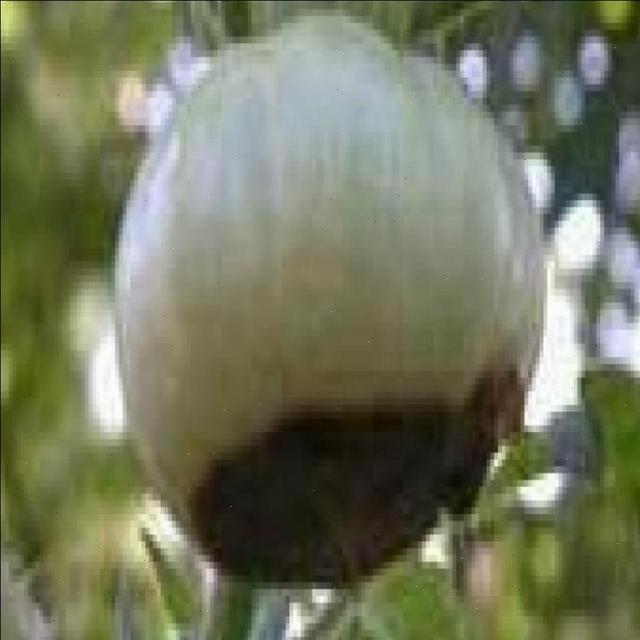Blossom End Rot Fruit: (128, 238, 356, 388)
